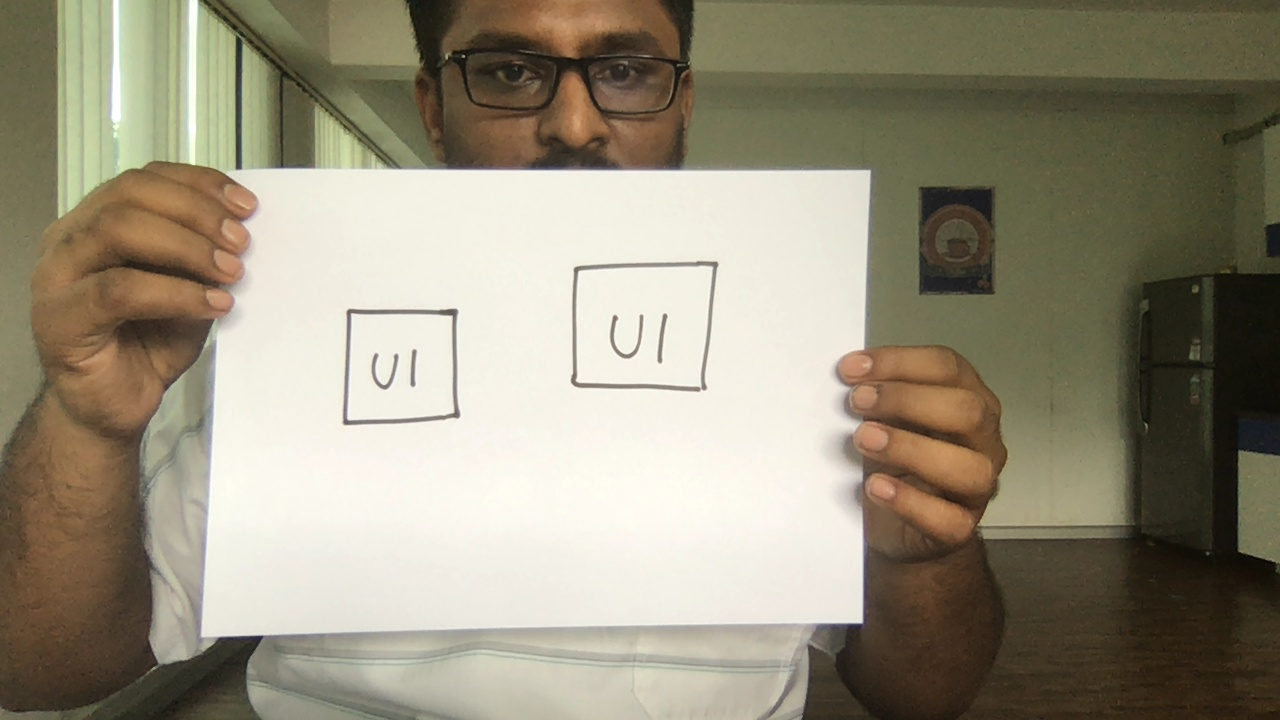ui: (564, 256, 720, 401), (338, 302, 466, 434)
